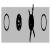correct: (16, 13, 22, 33)
not correct: (29, 3, 35, 44)
